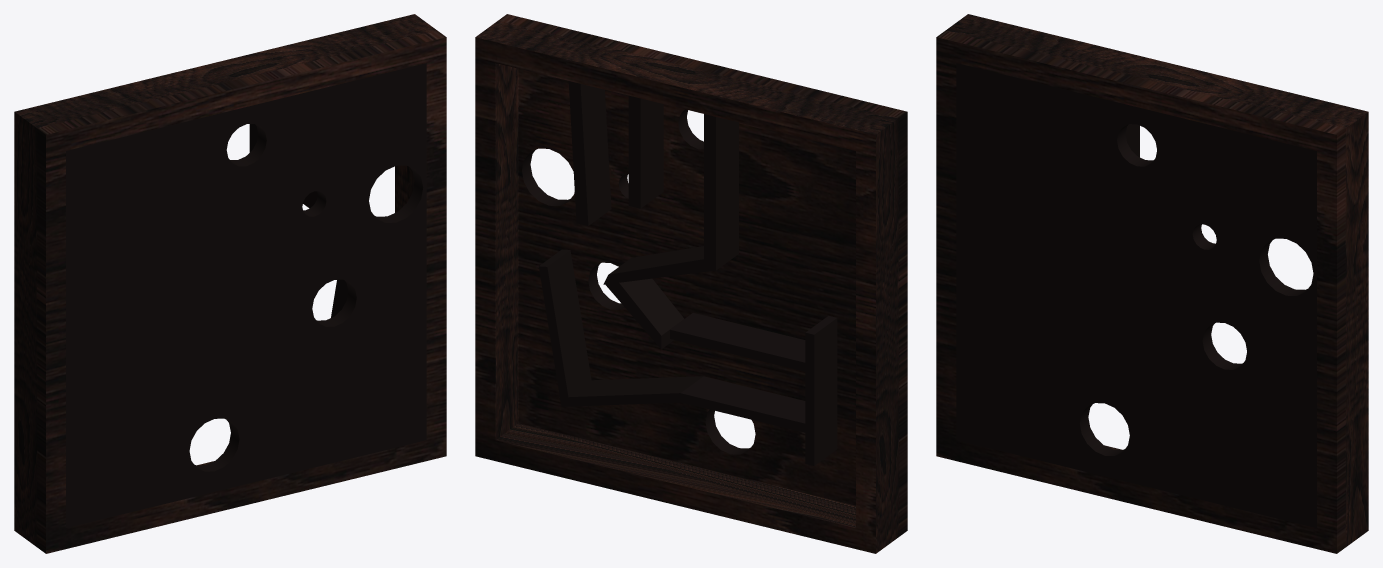
The model's file is Tablet2.fbx.
3 views of the same model, side by side, from view 1: azimuth 30°, elevation 25°; view 2: azimuth 150°, elevation 25°; view 3: azimuth 330°, elevation 25° (orthographic).
Parts seen in each view (by area): view 1: Tablet; view 2: Tablet; view 3: Tablet.
Part boxes in pixels (box(x1,y1,x2,y2)): Tablet: box(14, 14, 446, 553); Tablet: box(475, 14, 907, 553); Tablet: box(936, 14, 1368, 553).
Bounding box in the file's own units: 4 × 4 × 0.6917.
1 material, 1 textured.
